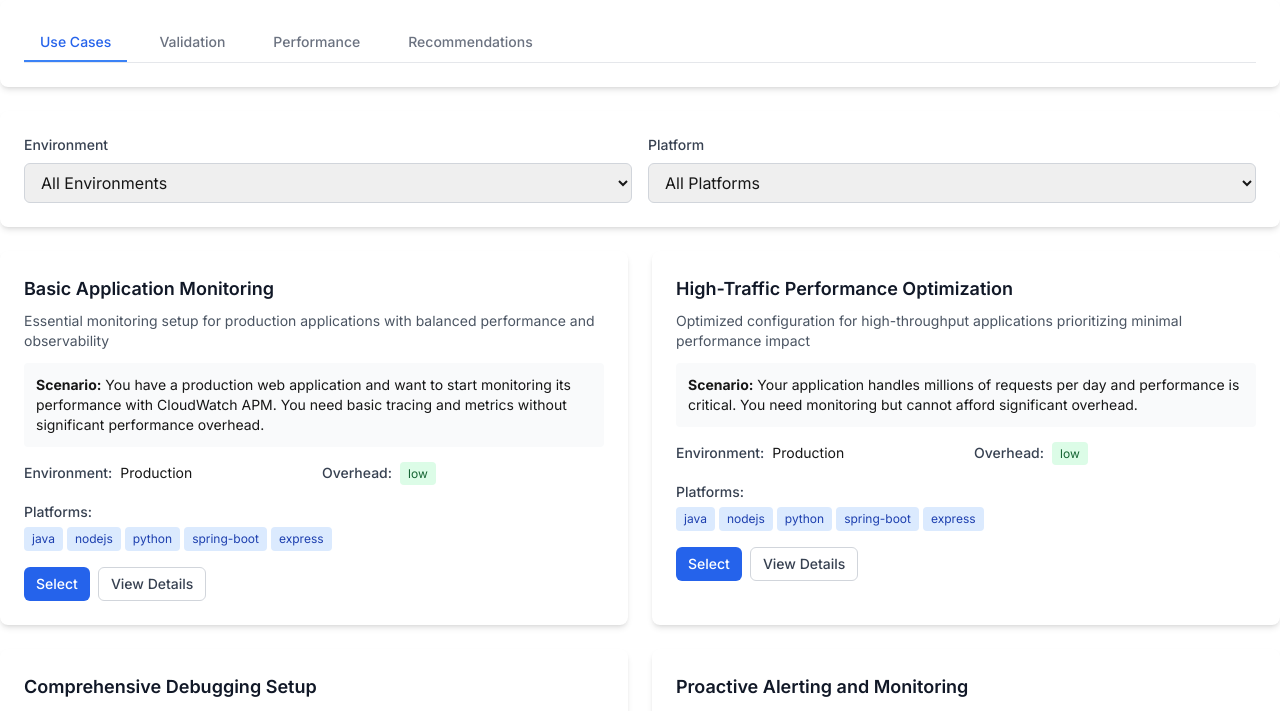
Test: ConfigurationValidationTools › Recommendations Tab › should switch to recommendations tab
Click the button "Recommendations": (470, 43) [392,24,549,62]
(page scrolled)
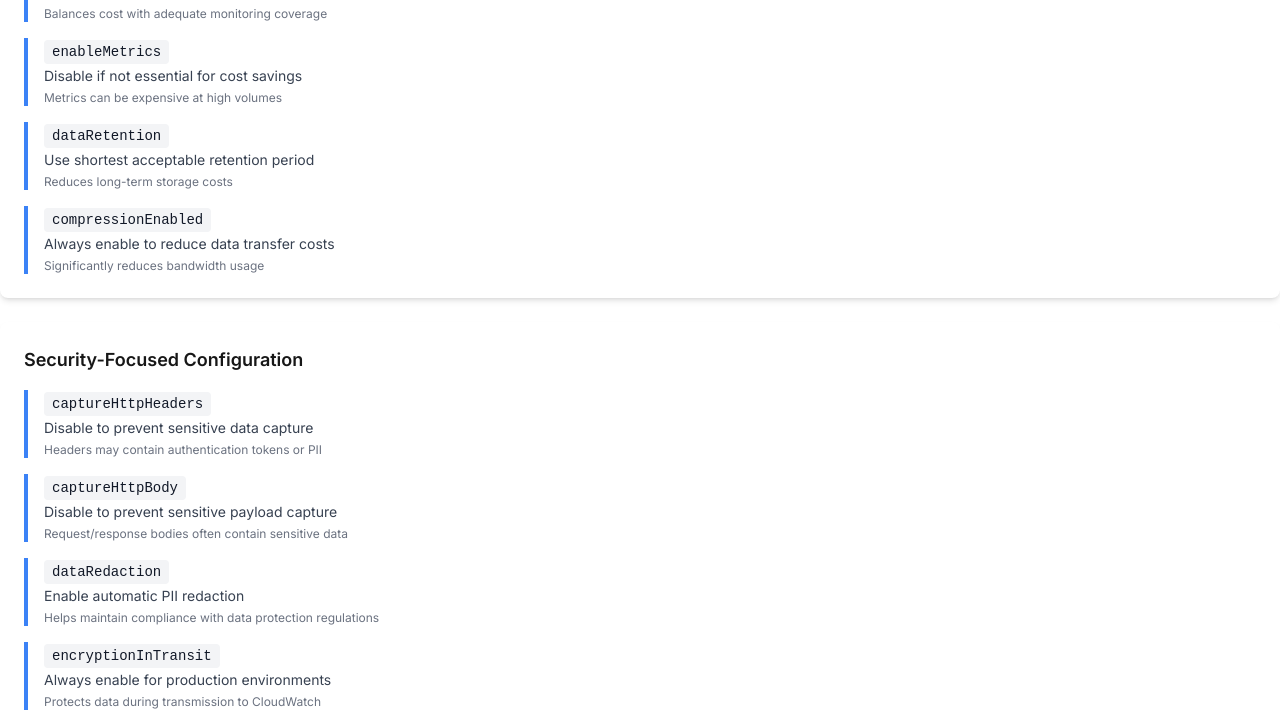
Check: the heading "Security-Focused Configuration" is shown, box [24,349,303,370]
